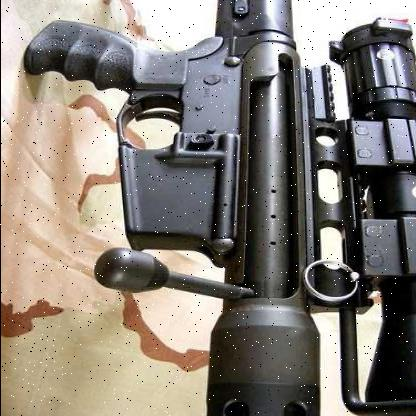rifle: (1, 0, 416, 413)
